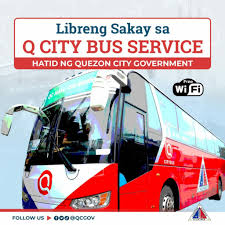bus: (1, 67, 225, 212)
